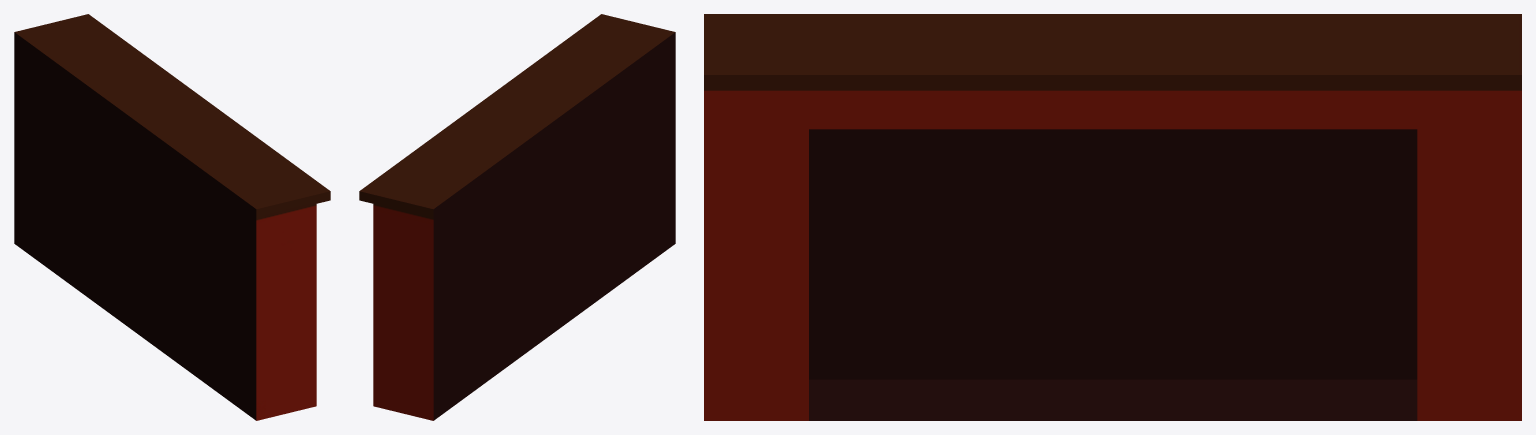
Rendered from Fireplace.fbx.
The picture shows the model from 3 angles, left to right: view 1: azimuth 30°, elevation 25°; view 2: azimuth 150°, elevation 25°; view 3: azimuth 270°, elevation 25°; orthographic projection. The views are drawn at different scales.
Parts seen in each view (by area): view 1: pCube1; view 2: pCube1; view 3: pCube1.
Part boxes in pixels (box(x1,y1,x2,y2)): pCube1: box(14, 14, 330, 420); pCube1: box(359, 14, 675, 420); pCube1: box(704, 14, 1521, 420).
Size of the model in its own units: 1.14 by 3.12 by 6.47.
